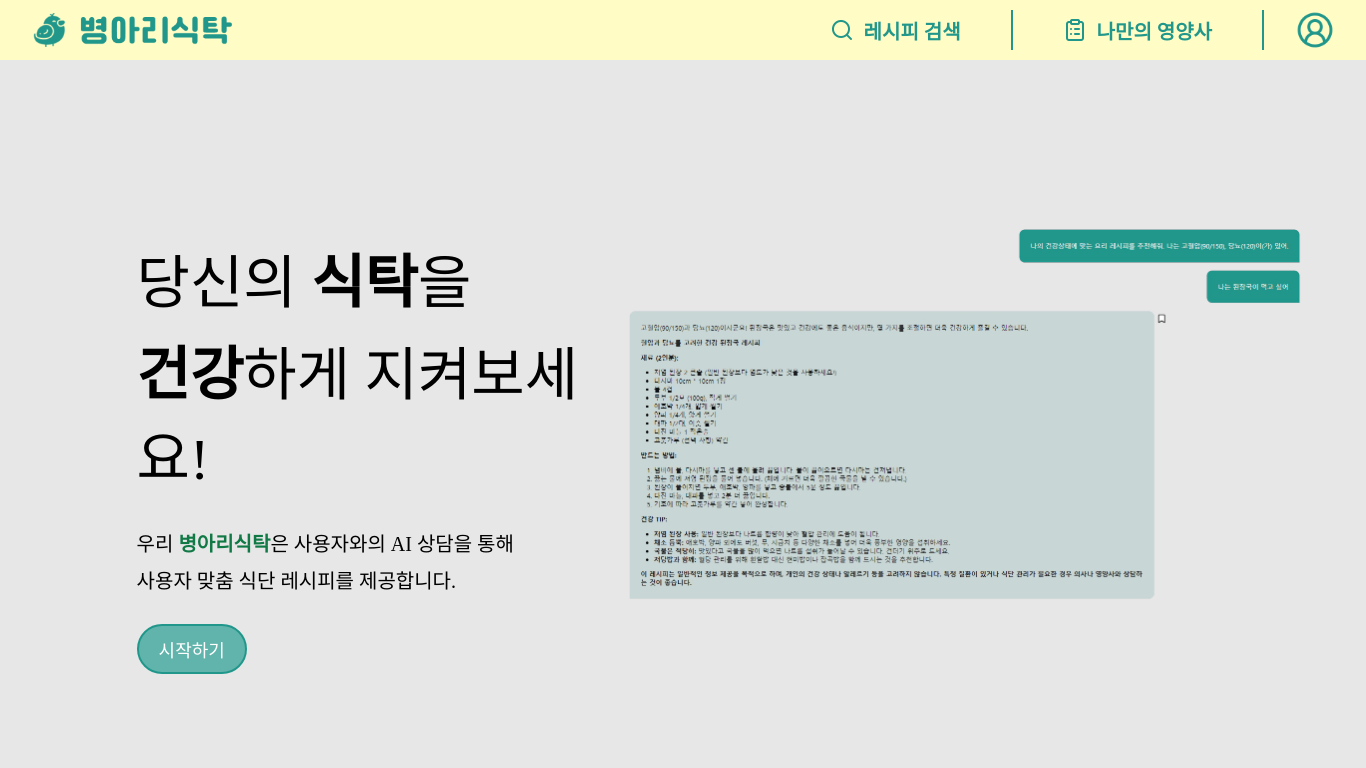
Test: 로그인 상태 › 로그아웃하면 헤더 메뉴가 로그인, 회원가입으로 바뀐다
Click the picture with alt text "Dropdown": (1315, 30) [1296,11,1334,49]
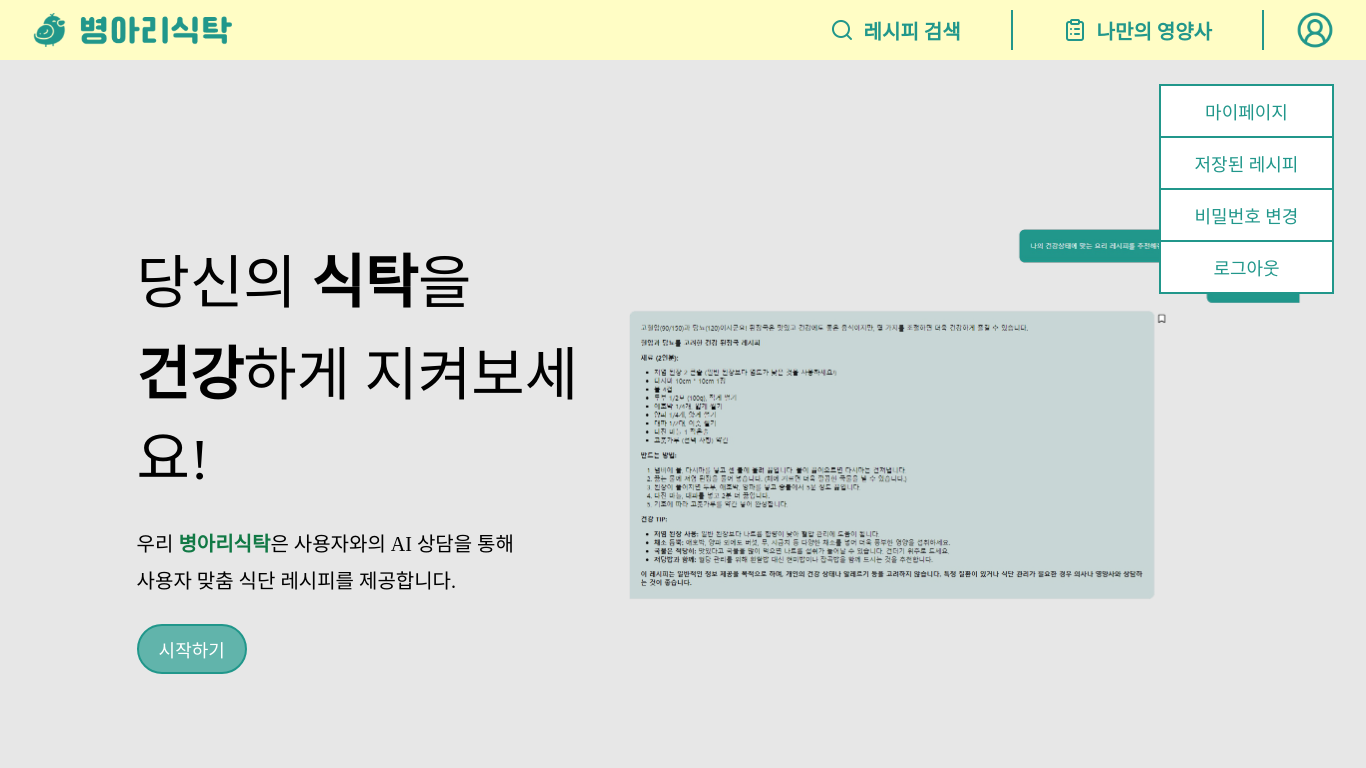
Click the list item "로그아웃": (1246, 268) [1159,242,1334,294]
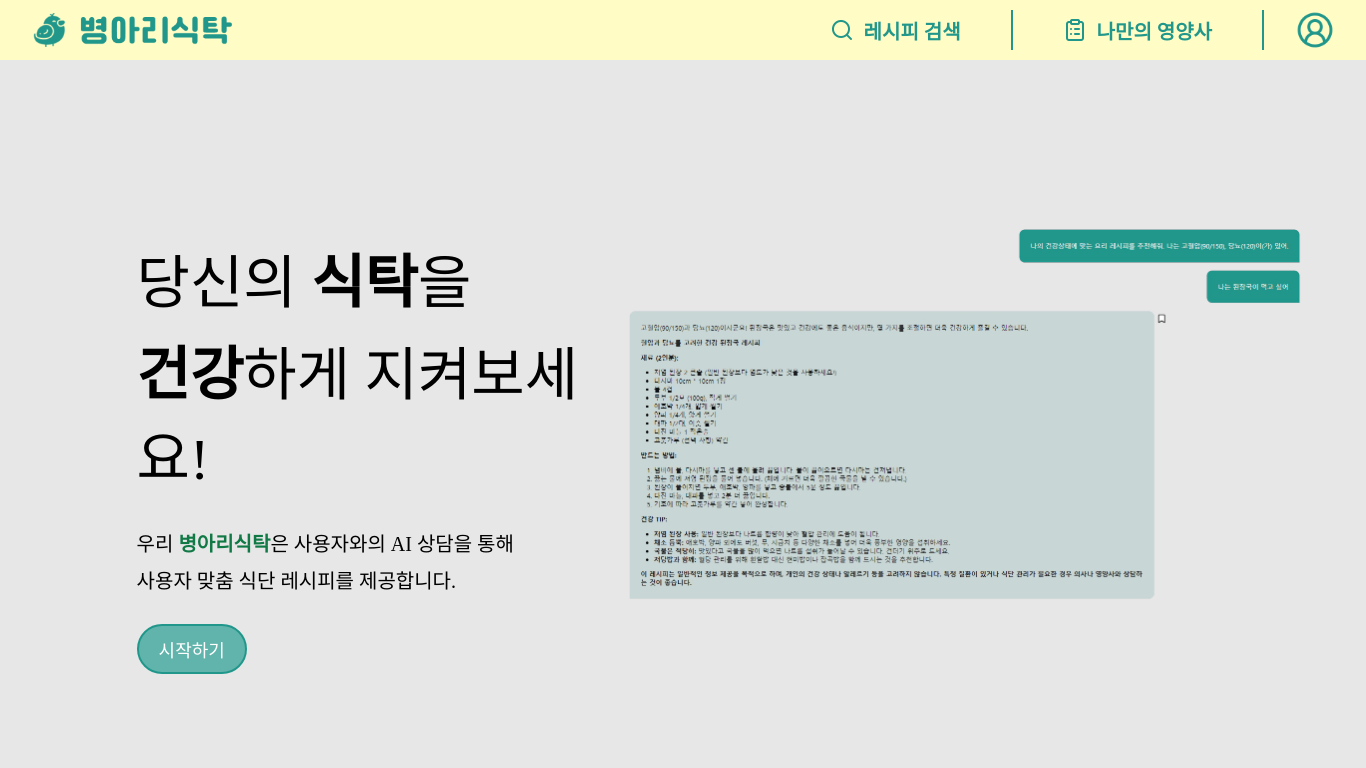
Click the picture with alt text "Dropdown": (1315, 30) [1296,11,1334,49]
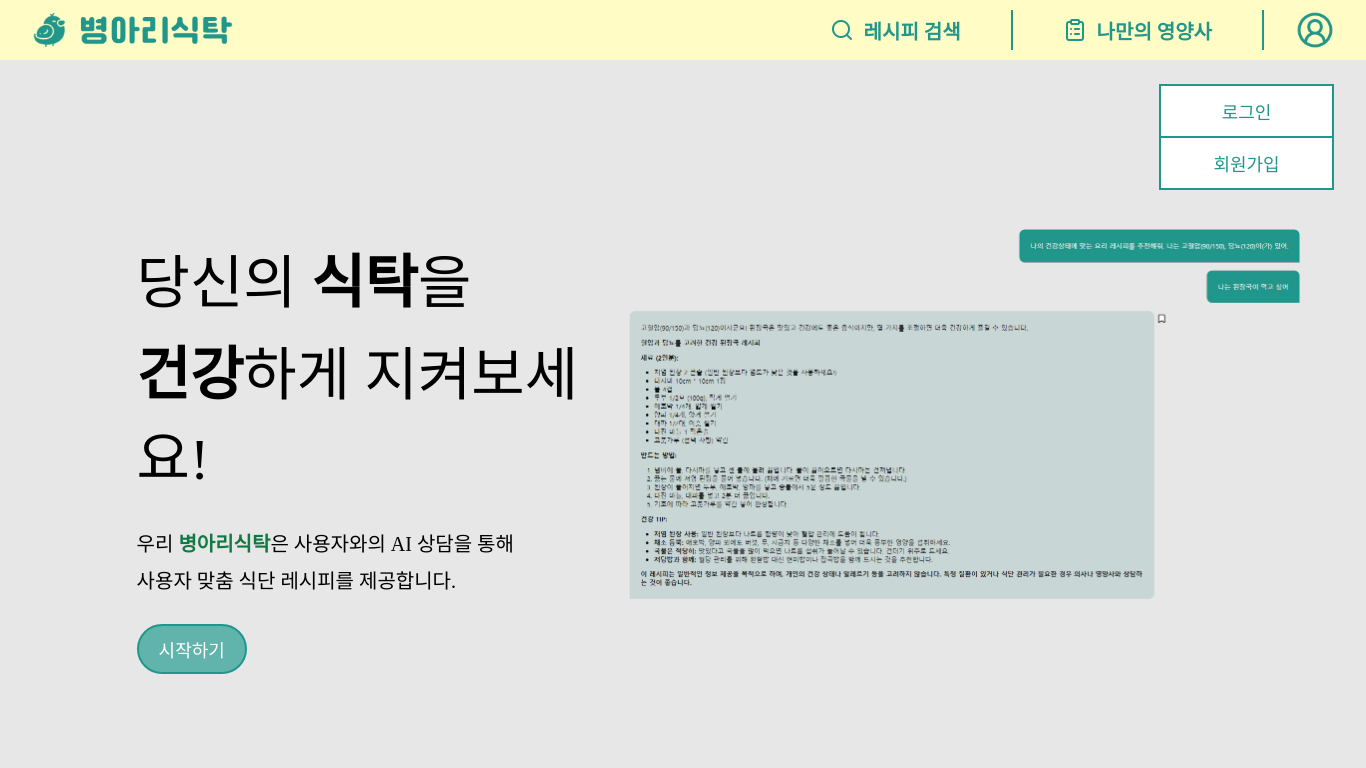
Expected: the link "마이페이지" is not shown
Now the link "회원가입" is shown, box [1213,155,1280,175]
